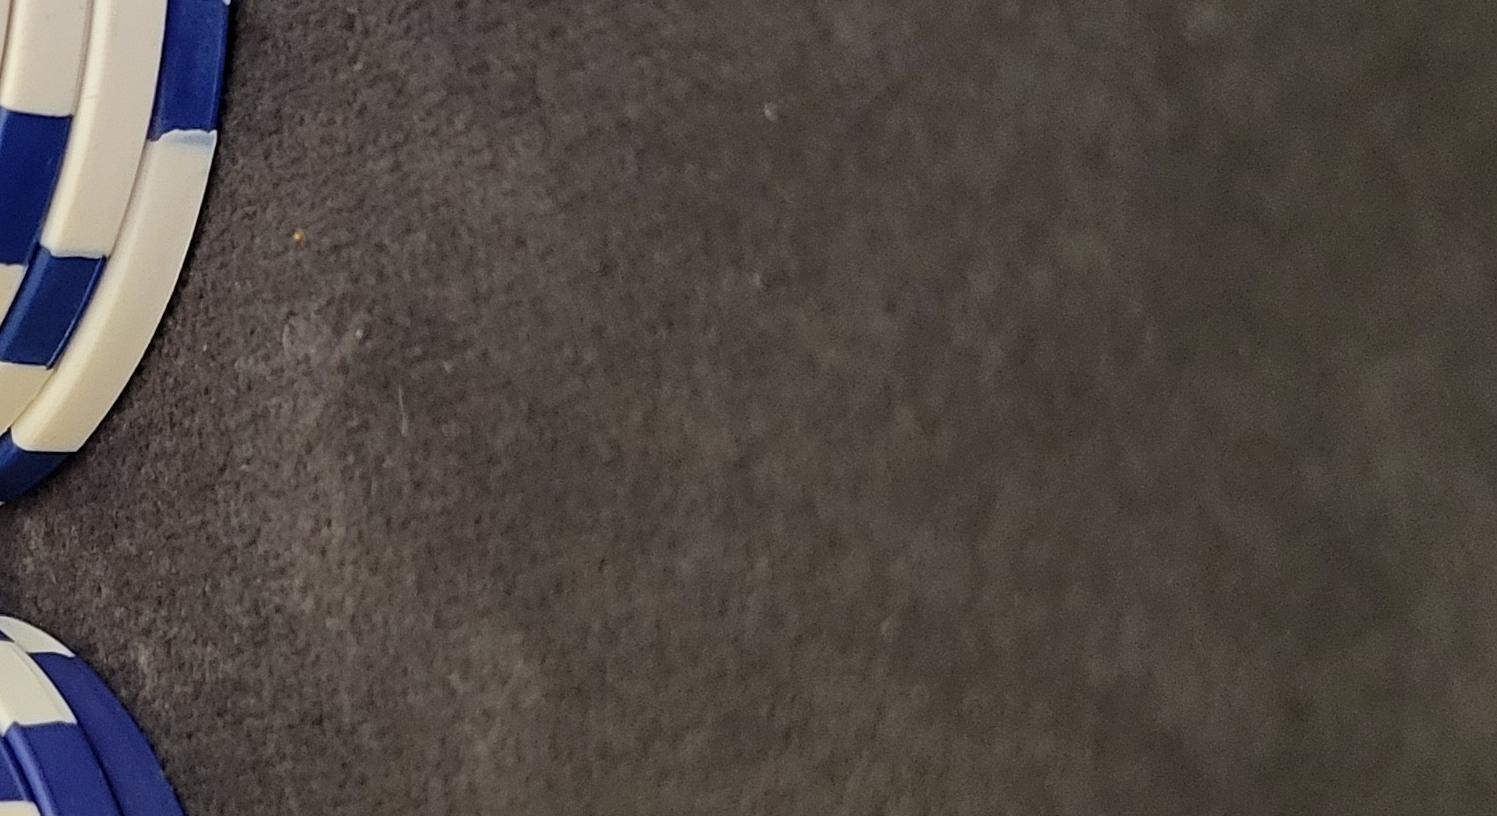Chip: (1, 327, 614, 816)
